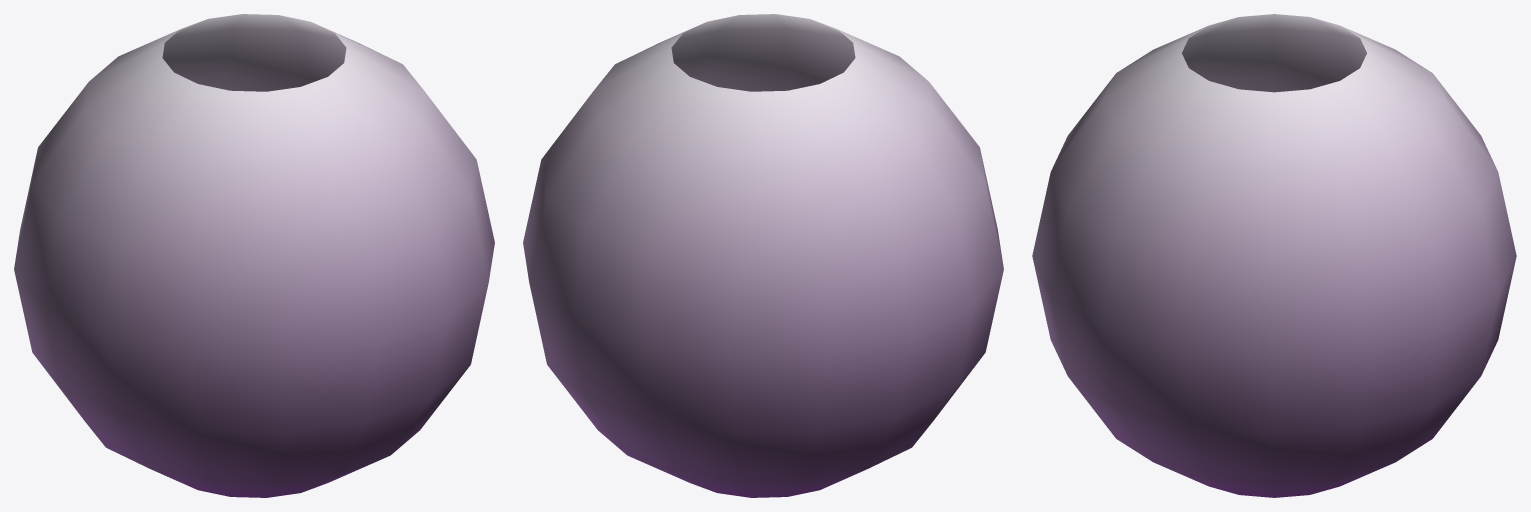
File: skydome.obj
3 views of the same model, side by side, from view 1: azimuth 30°, elevation 25°; view 2: azimuth 150°, elevation 25°; view 3: azimuth 270°, elevation 25° (orthographic).
Parts seen in each view (by area): view 1: 球; view 2: 球; view 3: 球.
Part boxes in pixels (x1,y1,x2,y2): 球: [14, 14, 494, 497]; 球: [523, 14, 1003, 497]; 球: [1032, 14, 1516, 497].
Size of the model in its own units: 1000 by 962 by 1000.
1 material, 1 textured.
